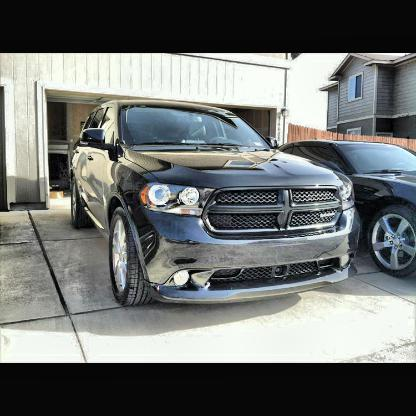Dodge Durango SUV 2012: (74, 101, 356, 318)
